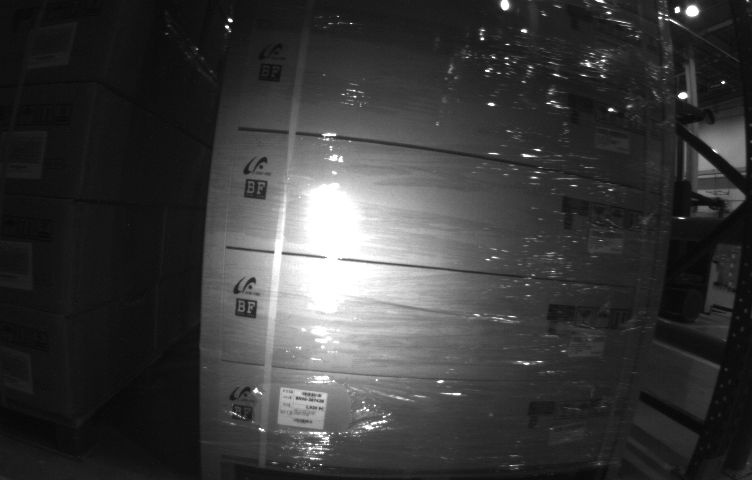True Barcode: (278, 387, 329, 426)
